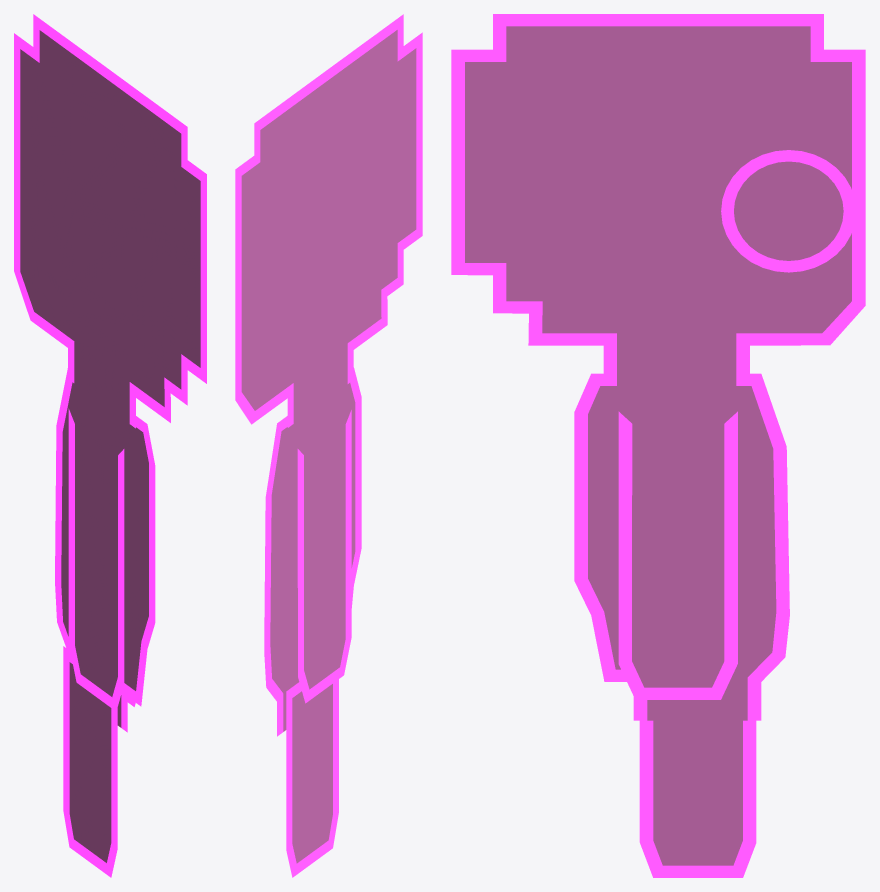
File: EMPTY (Right).fbx
3 views of the same model, side by side, from view 1: azimuth 30°, elevation 25°; view 2: azimuth 150°, elevation 25°; view 3: azimuth 270°, elevation 25° (orthographic). The views are drawn at different scales.
Visible parts, largest first — view 1: Plane.118, Plane.037, Plane.070, Plane.099; view 2: Plane.118, Plane.037, Plane.070, Plane.099; view 3: Plane.118, Plane.070, Plane.067, Plane.099, Cylinder.003.
Boxes of the visible parts, x1,y1,x2,y2 form: Plane.118: [14, 14, 206, 428]; Plane.037: [68, 408, 124, 711]; Plane.070: [55, 368, 155, 732]; Plane.099: [63, 646, 117, 877]; Plane.118: [235, 14, 422, 427]; Plane.037: [297, 409, 351, 703]; Plane.070: [264, 367, 361, 736]; Plane.099: [286, 679, 338, 877]; Plane.118: [451, 14, 865, 373]; Plane.070: [574, 373, 789, 720]; Plane.067: [618, 411, 737, 699]; Plane.099: [639, 720, 756, 877]; Cylinder.003: [721, 150, 856, 272].
Bounding box in the file's own units: 9.61 × 408 × 177.
